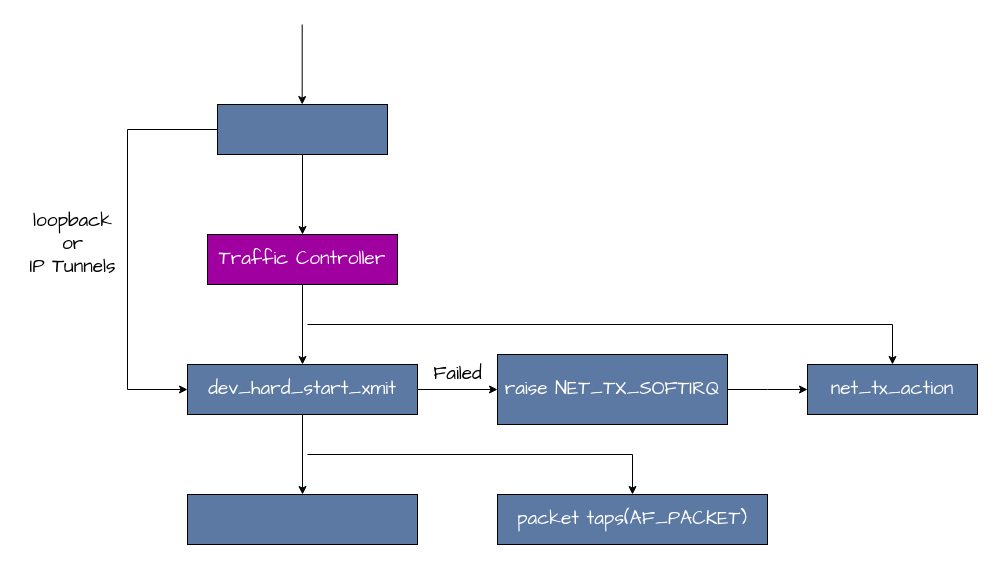
The diagram is 995 pixels wide and 562 high, and some of its shapes have lost their labels. Here are the shapes that lost their labels. From the top down, the centre of each, then its label:
At point (302, 129): "dev_queue_xmit".
At point (302, 519): "ndo_start_xmit".
